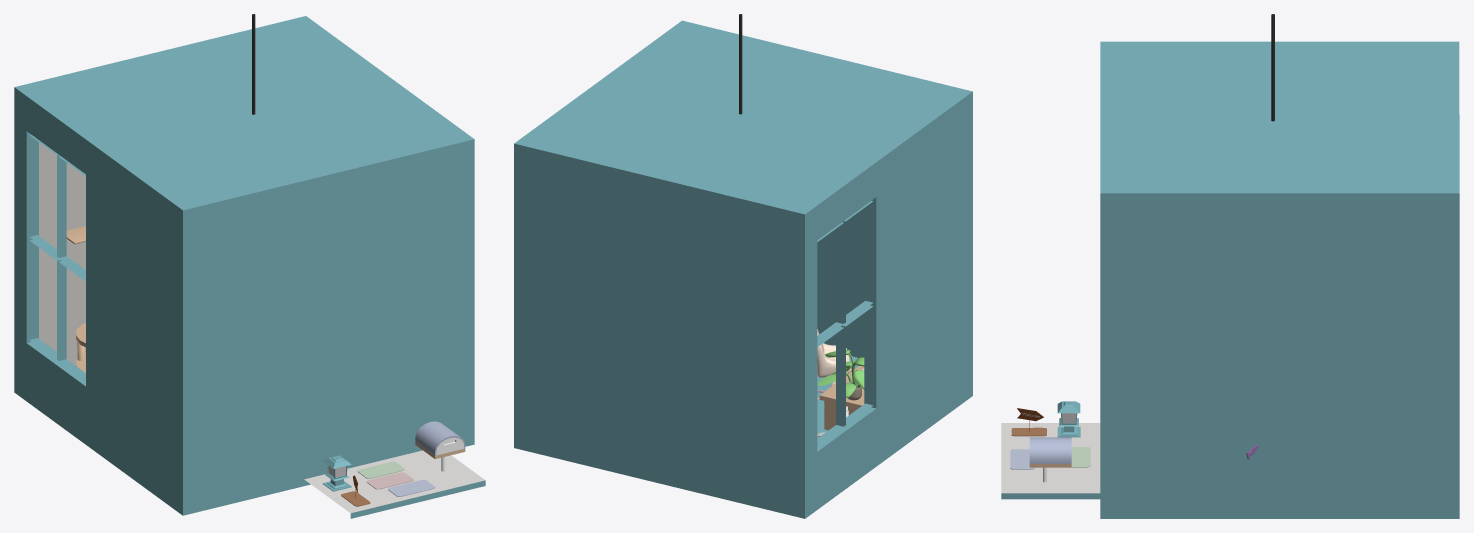
File: website version 4.glb
3 renders of one model, left to right at view 1: azimuth 30°, elevation 25°; view 2: azimuth 150°, elevation 25°; view 3: azimuth 270°, elevation 25°, orthographic. The views are drawn at different scales.
Visible parts, largest first — view 1: Body, Mini floor, Mailbox, Lamp; view 2: Body, Table stuff, Chair, Desks; view 3: Body, Mini floor, Mailbox, Lamp.
Boxes of the visible parts, x1,y1,x2,y2 form: Body: [14, 16, 474, 515]; Mini floor: [304, 450, 485, 518]; Mailbox: [415, 421, 465, 471]; Lamp: [322, 455, 351, 491]; Body: [514, 20, 972, 518]; Table stuff: [817, 349, 864, 400]; Chair: [817, 329, 851, 377]; Desks: [817, 366, 864, 436]; Body: [1100, 41, 1459, 518]; Mini floor: [1001, 423, 1100, 499]; Mailbox: [1029, 437, 1071, 482]; Lamp: [1057, 401, 1080, 437].
Size of the model in its own units: 18.62 by 20.76 by 19.98.
